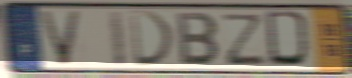B: (175, 11, 223, 68)
D: (263, 9, 315, 70), (127, 9, 178, 69)
I: (106, 9, 129, 68)
V: (36, 9, 85, 67)
Z: (222, 12, 267, 67)
